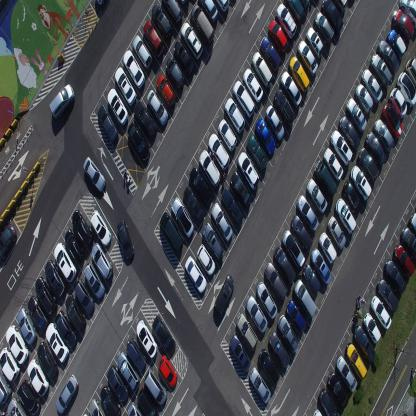car: (48, 82, 76, 120), (190, 3, 215, 44), (160, 210, 184, 252), (45, 321, 69, 363), (122, 48, 146, 90), (127, 121, 151, 162), (53, 243, 77, 284), (152, 314, 176, 355), (171, 196, 194, 238), (117, 350, 140, 392), (264, 262, 288, 302), (282, 229, 306, 269), (293, 278, 317, 318), (5, 324, 29, 364), (198, 149, 221, 190), (221, 187, 244, 228), (113, 65, 136, 106), (55, 374, 78, 415), (54, 308, 78, 347), (189, 166, 211, 208), (213, 274, 235, 316), (210, 203, 233, 243), (34, 275, 57, 315), (233, 79, 256, 119), (314, 159, 337, 199), (353, 324, 376, 364), (295, 194, 319, 232), (329, 130, 353, 168), (376, 276, 400, 314), (274, 244, 296, 285), (229, 333, 251, 374), (97, 103, 119, 144), (184, 255, 207, 294), (150, 2, 173, 41), (144, 367, 167, 406), (82, 156, 106, 193), (17, 378, 41, 415), (202, 221, 224, 261), (36, 341, 58, 381), (277, 313, 299, 353), (345, 341, 367, 381), (91, 241, 113, 281), (207, 132, 230, 170), (133, 100, 156, 138), (290, 214, 313, 252), (338, 114, 361, 152), (180, 21, 203, 59), (44, 258, 66, 297), (136, 319, 158, 358), (256, 280, 278, 319), (251, 51, 273, 90), (142, 19, 164, 58), (27, 358, 49, 397), (106, 364, 128, 403), (279, 70, 302, 107), (248, 367, 271, 404), (230, 171, 252, 209), (236, 314, 258, 352), (106, 86, 128, 124), (246, 296, 268, 334), (237, 151, 259, 189), (275, 2, 297, 40), (273, 88, 295, 126), (335, 197, 357, 235), (268, 330, 290, 368), (335, 354, 357, 392), (370, 293, 392, 331), (384, 257, 406, 295), (173, 39, 195, 77), (90, 209, 112, 247), (84, 262, 106, 300), (289, 55, 310, 94), (350, 164, 372, 201), (258, 348, 280, 385), (27, 295, 49, 332), (321, 0, 344, 35), (72, 208, 92, 248), (183, 185, 204, 223), (286, 298, 307, 336), (247, 134, 268, 172), (297, 39, 318, 77), (382, 102, 403, 140), (0, 346, 21, 384), (306, 178, 328, 214), (358, 146, 380, 182), (131, 34, 153, 70), (256, 117, 276, 156), (396, 70, 416, 109), (224, 97, 245, 134), (260, 35, 281, 72), (346, 97, 367, 134), (362, 68, 383, 105), (371, 52, 392, 89), (310, 247, 331, 284), (378, 39, 400, 74), (392, 7, 414, 42), (366, 130, 386, 168), (328, 370, 348, 408), (17, 307, 37, 345), (147, 89, 168, 125), (242, 67, 263, 103), (373, 117, 394, 153), (393, 244, 415, 278), (268, 18, 288, 55), (264, 104, 284, 140), (323, 146, 343, 182), (343, 178, 363, 214), (195, 242, 216, 276), (117, 218, 134, 260), (314, 10, 334, 45), (156, 74, 176, 109), (137, 386, 160, 416), (65, 228, 84, 264), (126, 337, 146, 371), (0, 224, 17, 264), (158, 354, 178, 388), (100, 384, 121, 416), (327, 215, 346, 250), (354, 82, 373, 116), (165, 56, 184, 90), (400, 225, 416, 265), (218, 118, 236, 152), (386, 29, 406, 59), (306, 25, 324, 58), (389, 86, 407, 119), (318, 230, 336, 263), (363, 312, 381, 344), (319, 388, 339, 415), (303, 263, 320, 294), (198, 0, 219, 25), (162, 0, 184, 23), (398, 0, 416, 27), (285, 0, 304, 23), (0, 367, 11, 405), (6, 396, 27, 415), (406, 56, 416, 90), (88, 398, 104, 416), (127, 400, 143, 416), (214, 0, 231, 15), (332, 0, 348, 15), (408, 211, 416, 237), (299, 0, 311, 9), (312, 408, 323, 415), (94, 0, 106, 5), (179, 0, 189, 5)
